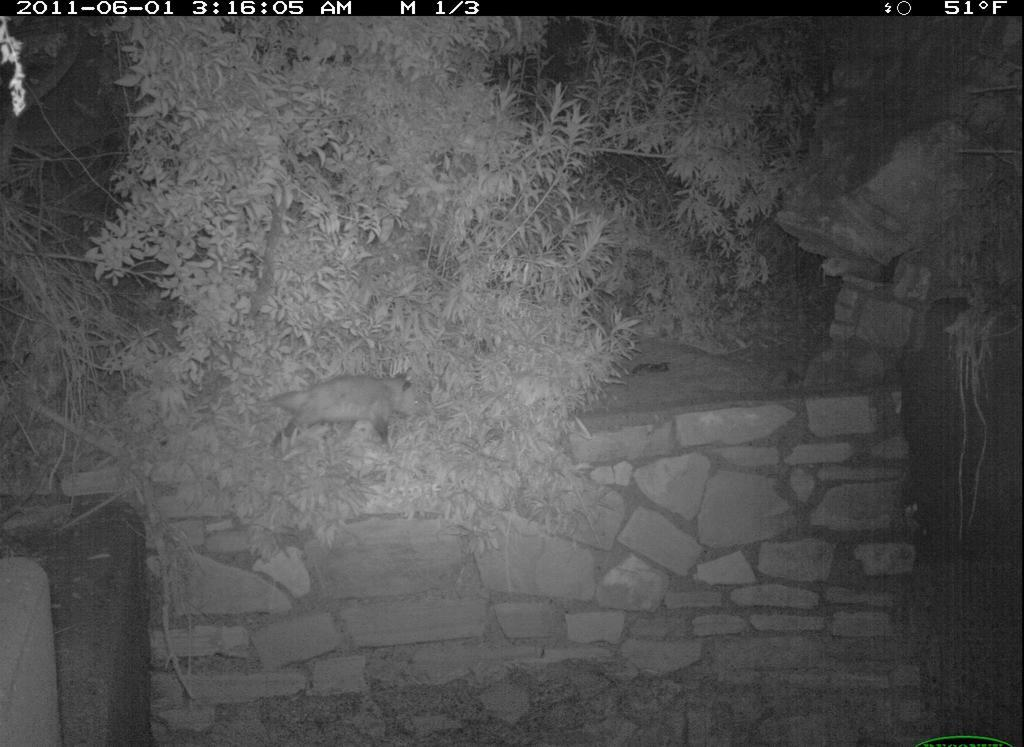opossum: (249, 367, 430, 456)
